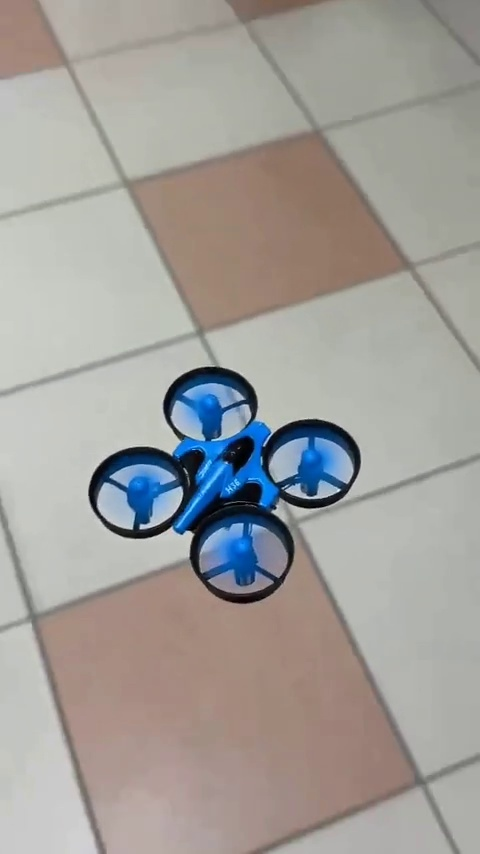drone: (92, 369, 367, 593)
